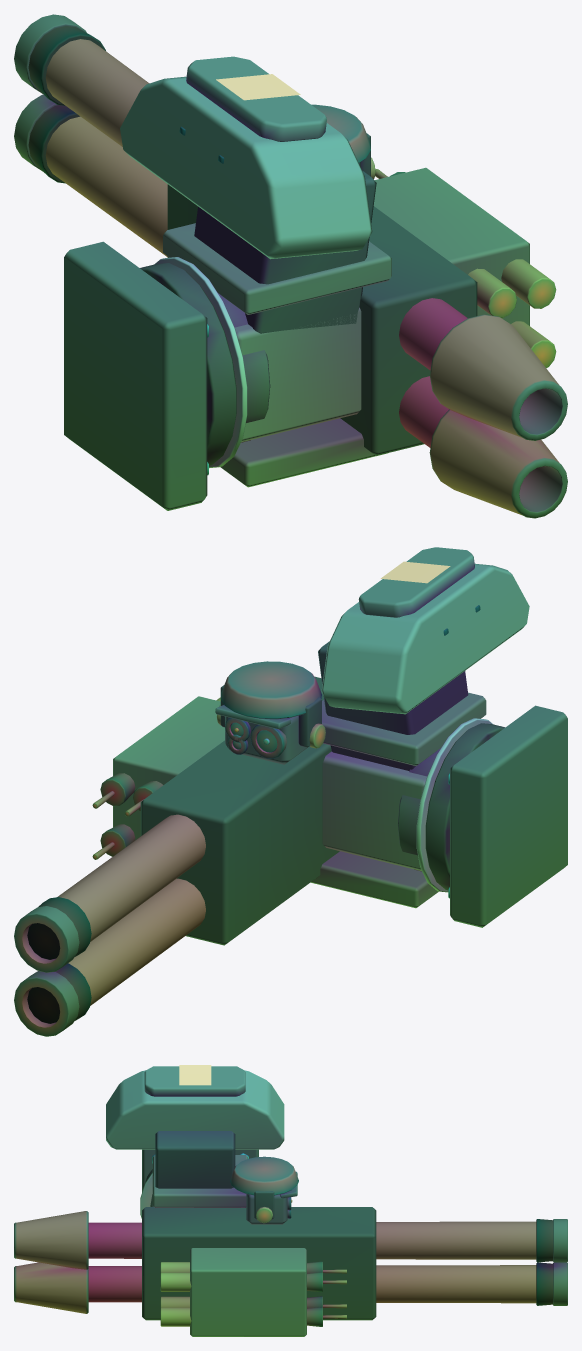
File: arm_cg84.glb
3 renders of one model, top to bottom at view 1: azimuth 30°, elevation 25°; view 2: azimuth 150°, elevation 25°; view 3: azimuth 270°, elevation 25°, orthographic. The views are drawn at different scales.
Parts seen in each view (by area): view 1: Body__gunmetal, Body__armor, Body__armor_sub, Body__dark, Body__armor_dark, Body__brass, Body__rubber, Body__chrome, Body__decal; view 2: Body__gunmetal, Body__dark, Body__armor, Body__armor_sub, Body__armor_dark, Body__chrome, Body__armor_oxide, Body__bore, Body__rubber, Body__decal; view 3: Body__dark, Body__armor_dark, Body__armor_sub, Body__gunmetal, Body__armor, Body__brass, Body__rubber, Body__armor_oxide, Body__decal, Body__copper, Body__chrome.
Part boxes in pixels (x1,y1,x2,y2): Body__gunmetal: (14,14,567,518); Body__armor: (120,76,372,442); Body__armor_sub: (163,56,529,487); Body__dark: (140,126,477,465); Body__armor_dark: (45,39,467,447); Body__brass: (371,157,556,368); Body__rubber: (28,26,105,183); Body__chrome: (154,257,247,475); Body__decal: (216,74,300,100); Body__gunmetal: (14,661,567,1036); Body__dark: (140,605,504,945); Body__armor: (321,563,529,870); Body__armor_sub: (113,547,486,908); Body__armor_dark: (57,715,307,1005); Body__chrome: (416,718,492,898); Body__armor_oxide: (100,773,163,856); Body__bore: (27,923,60,1023); Body__rubber: (38,897,91,1020); Body__decal: (380,561,450,583); Body__dark: (142,1131,376,1320); Body__armor_dark: (88,1194,536,1303); Body__armor_sub: (144,1066,306,1336); Body__gunmetal: (14,1149,567,1313); Body__armor: (106,1070,284,1149); Body__brass: (160,1207,272,1326); Body__rubber: (536,1219,552,1305); Body__armor_oxide: (306,1261,322,1326); Body__decal: (179,1065,211,1085); Body__copper: (323,1269,346,1318); Body__chrome: (140,1153,248,1218).
Bounding box in the file's own units: 0.996 × 0.8902 × 2.08.
